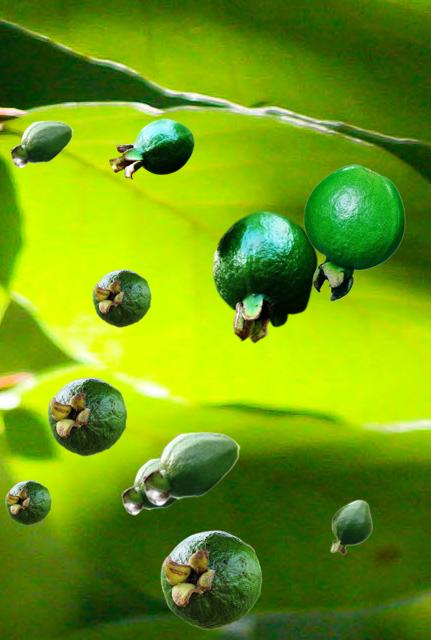guava: (212, 210, 317, 342), (303, 164, 404, 300), (160, 530, 261, 629), (142, 431, 239, 505), (47, 377, 126, 455), (109, 118, 193, 178), (92, 269, 150, 326), (121, 457, 177, 514), (10, 120, 72, 167), (330, 499, 371, 554), (5, 480, 50, 524)
